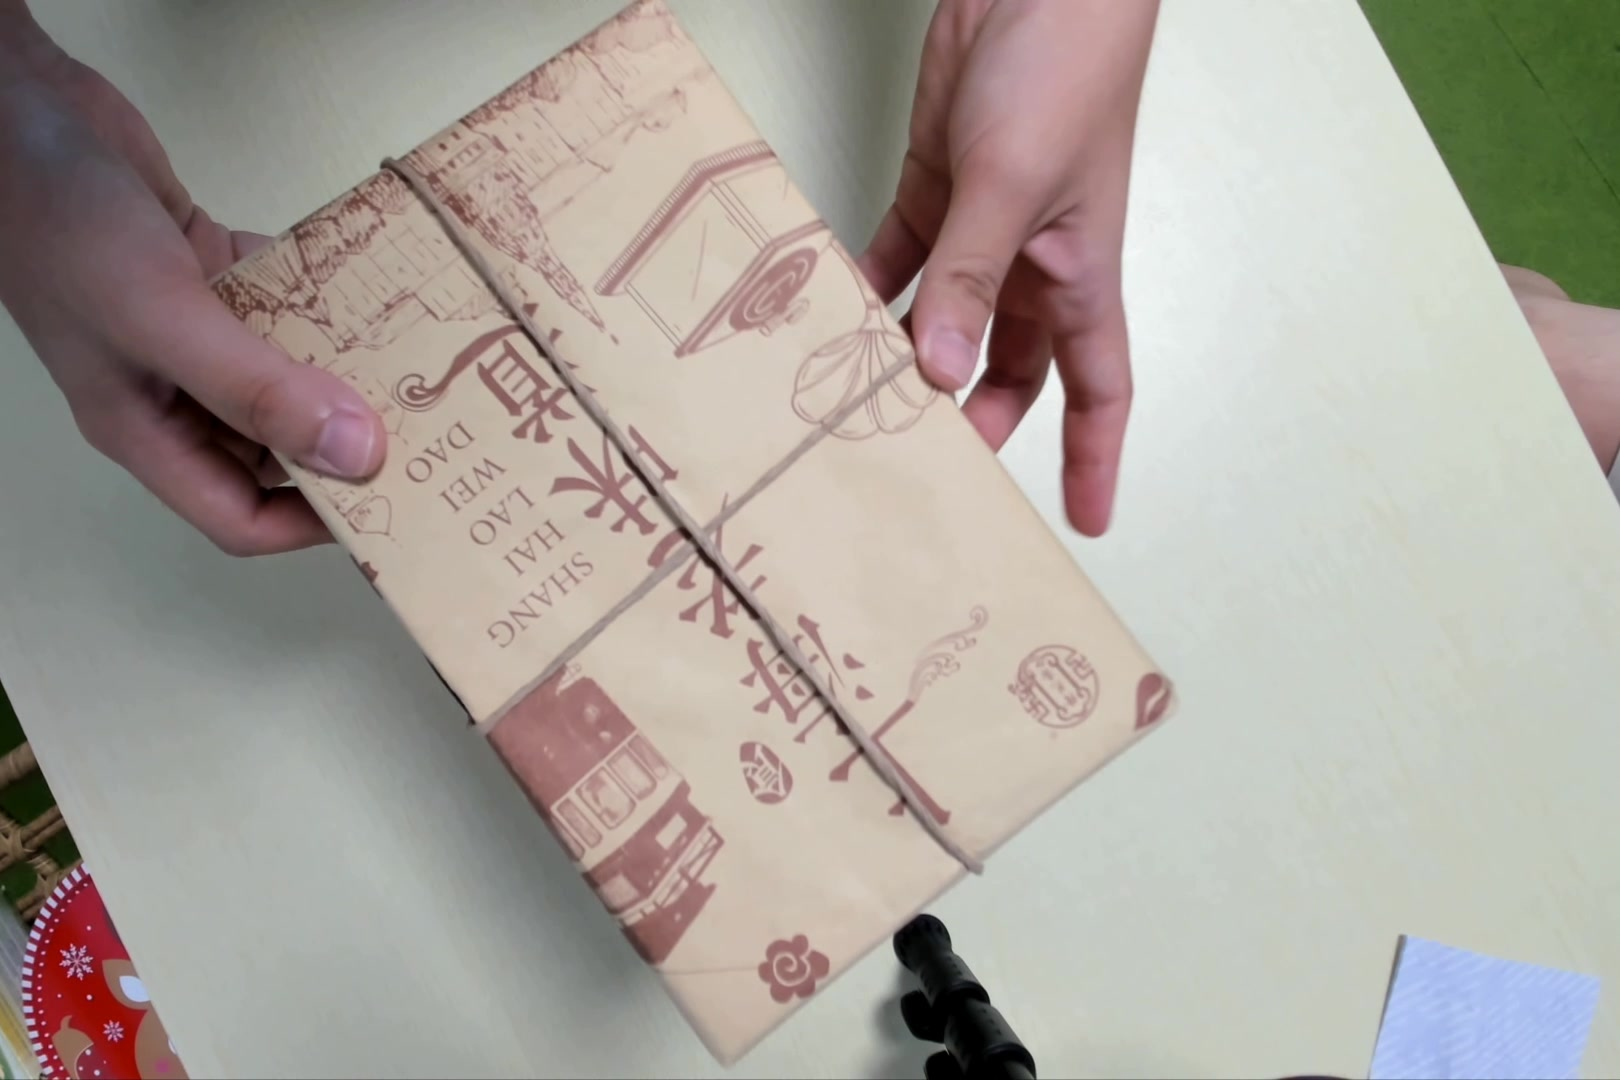BiscuitsCrackersCookies_400-499g_NonHalal_NonHealthy: (206, 14, 1182, 1058)
